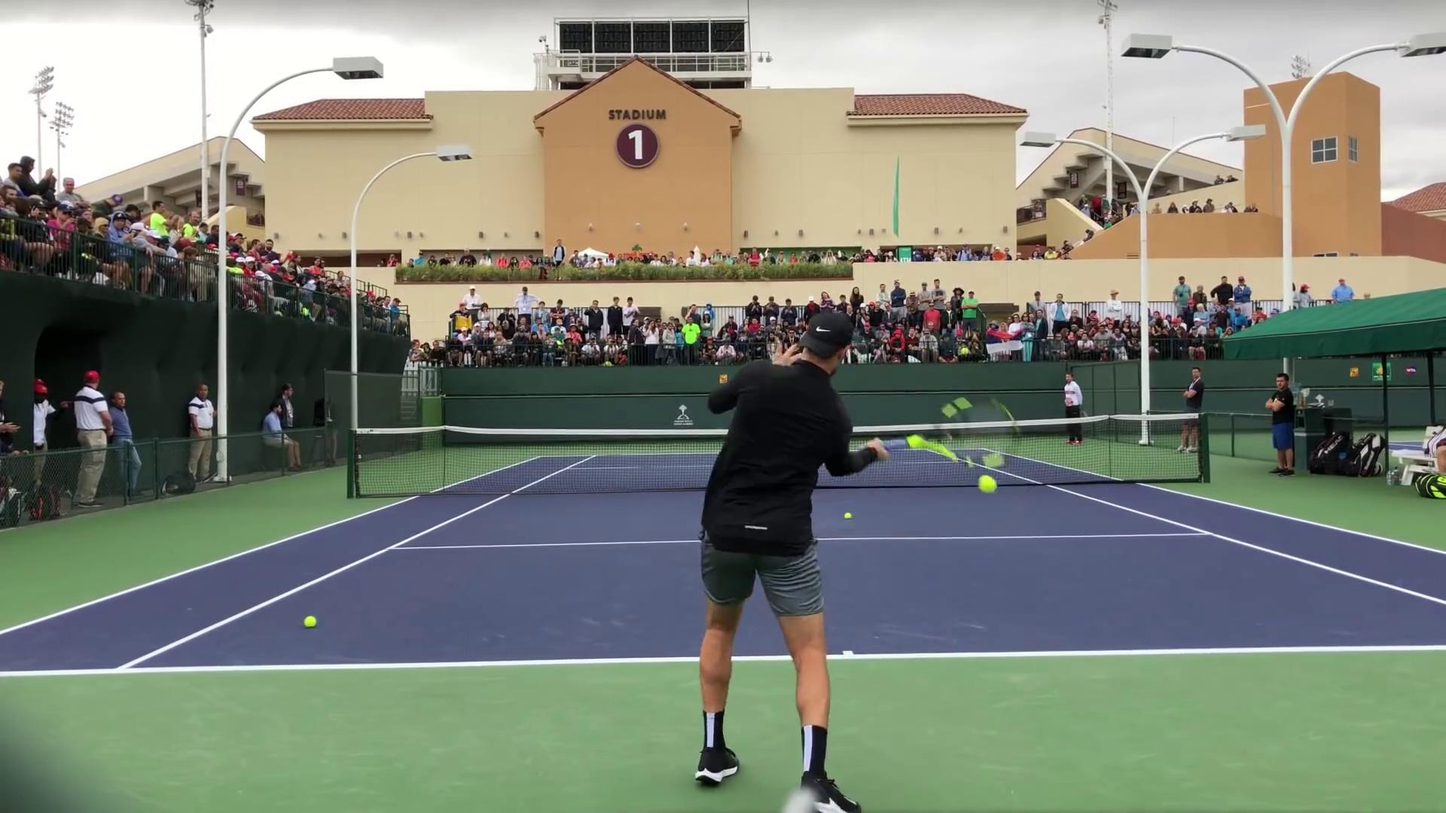ball: (975, 474, 998, 493), (304, 615, 322, 625), (843, 512, 852, 521)
